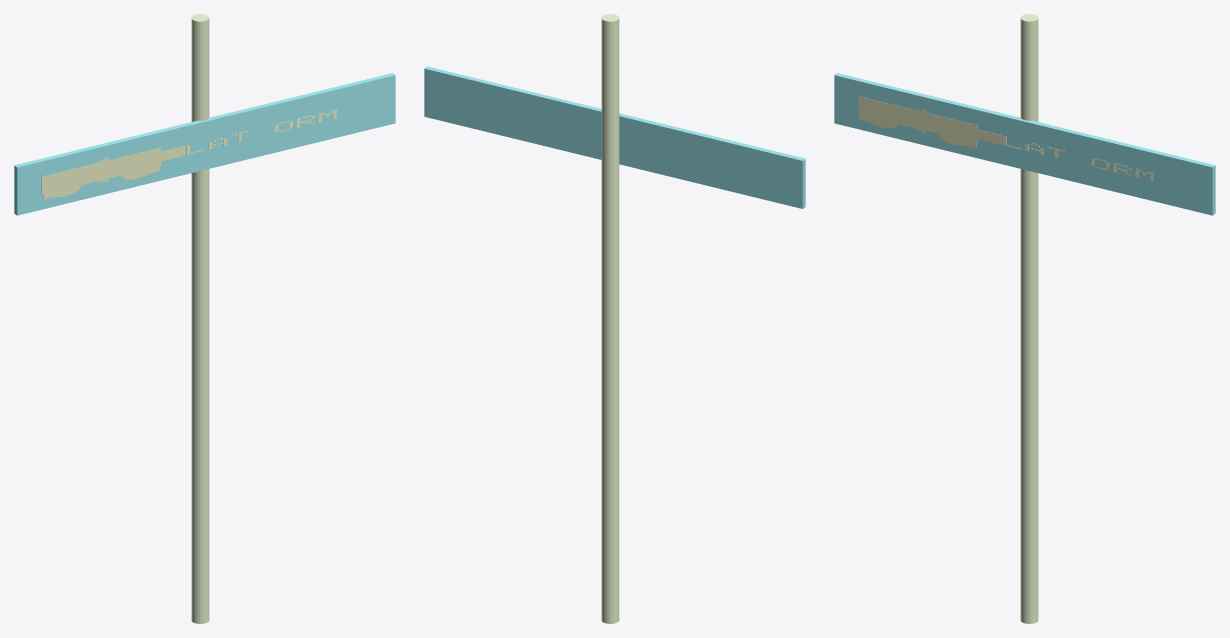
Rendered from sign_bus_platform_arrow_left.glb.
3 renders of one model, left to right at view 1: azimuth 30°, elevation 25°; view 2: azimuth 150°, elevation 25°; view 3: azimuth 330°, elevation 25°, orthographic.
Parts seen in each view (by area): view 1: plate_base_00, pole, layer_1_00; view 2: plate_base_00, pole; view 3: plate_base_00, pole, layer_1_00, layer_1_110, layer_1_111.
Boxes of the visible parts, box(x1,y1,x2,y2) form: plate_base_00: box(14, 73, 395, 215); pole: box(191, 14, 209, 623); layer_1_00: box(41, 148, 161, 194); plate_base_00: box(424, 66, 805, 208); pole: box(601, 14, 619, 623); plate_base_00: box(834, 73, 1215, 215); pole: box(1020, 14, 1038, 623); layer_1_00: box(858, 96, 977, 143); layer_1_110: box(925, 117, 1002, 144); layer_1_111: box(878, 109, 925, 133).
Size of the model in its own units: 1.45 by 2.2 by 0.071.
